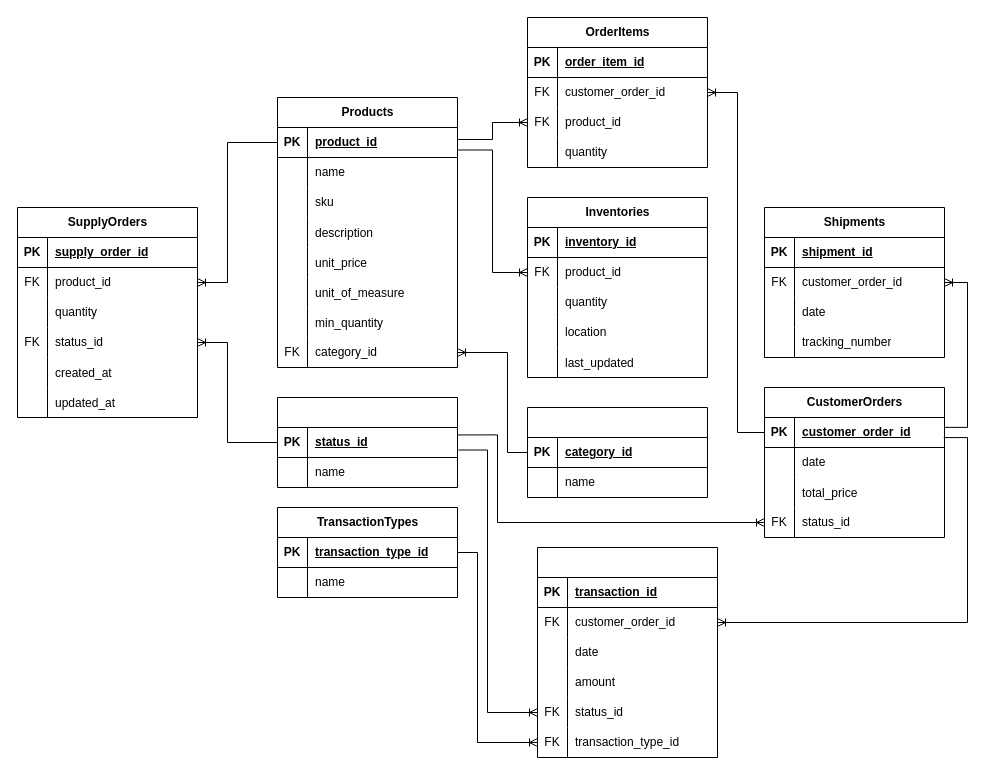
Image size: 993x775. Some labels were removed from this diagram. The shapes that lost their labels are listed below. From the top down, each one's box as (x1, y1, x2, y2) in pixels, then its label:
(276, 396, 458, 488): Statuses
(526, 406, 708, 498): Categories
(536, 546, 718, 758): Transactions
